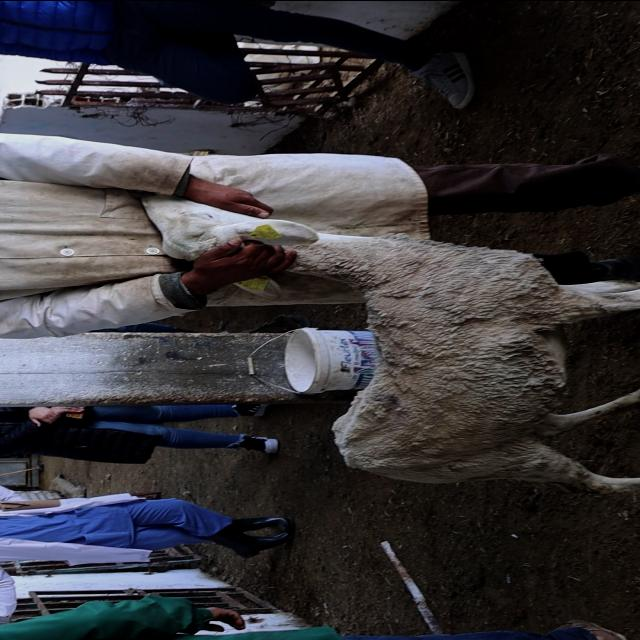Score_1: (142, 195, 639, 492)
